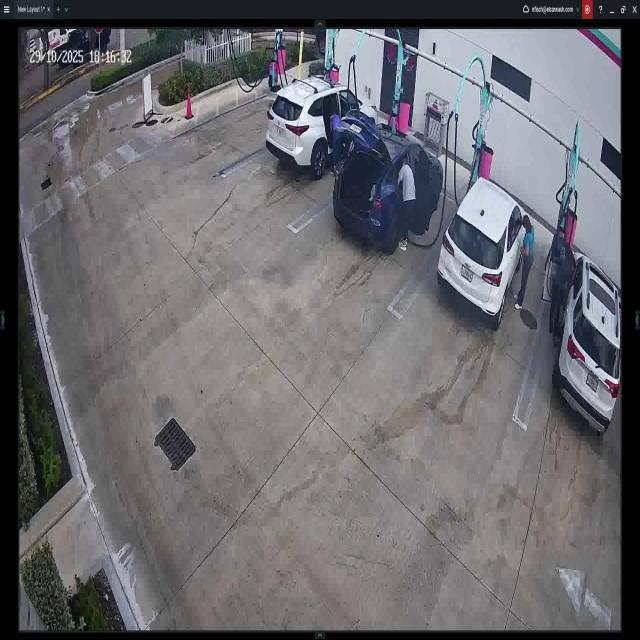Car: (334, 110, 443, 254), (436, 177, 530, 331), (556, 248, 621, 438), (266, 75, 380, 181), (315, 25, 326, 56)
